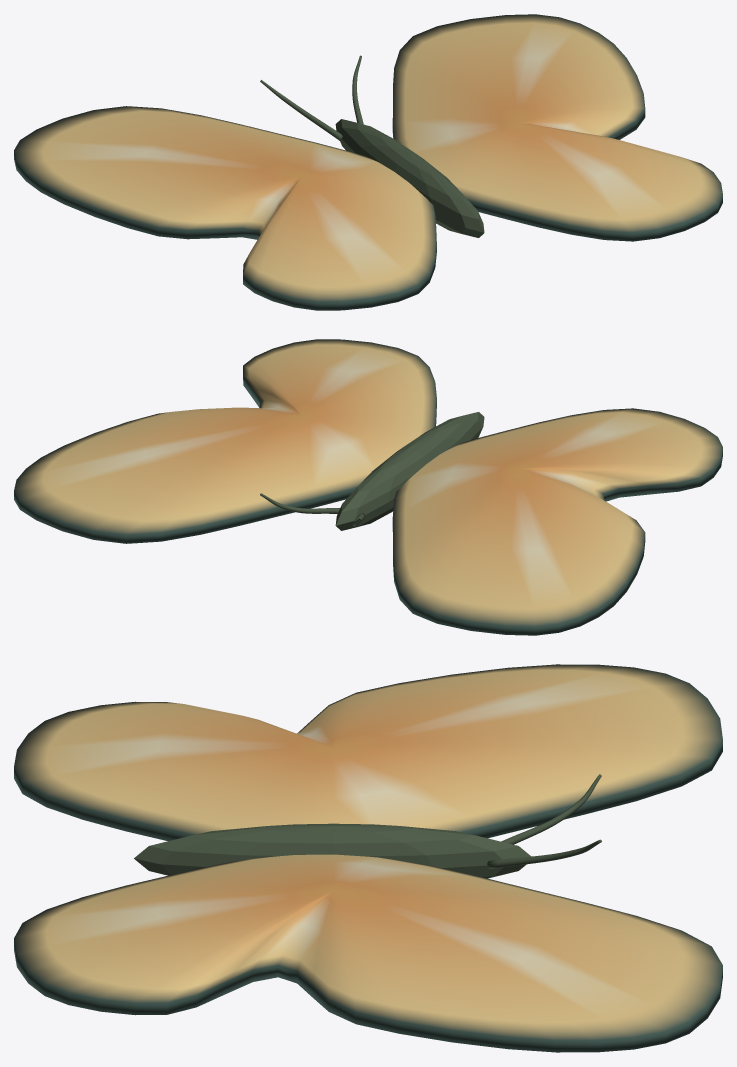
File: garden-butterfly.glb
The picture shows the model from 3 angles, top to bottom: view 1: azimuth 30°, elevation 25°; view 2: azimuth 150°, elevation 25°; view 3: azimuth 270°, elevation 25°; orthographic projection. The views are drawn at different scales.
Visible parts, largest first — view 1: wing-left, wing-right, Butterfly body, Curled antenna; view 2: wing-left, wing-right, Butterfly body; view 3: wing-right, wing-left, Butterfly body, Curled antenna.001, Curled antenna.
Boxes of the visible parts, x1,y1,x2,y2 form: wing-left: [14, 106, 436, 310]; wing-right: [392, 14, 722, 241]; Butterfly body: [335, 119, 484, 237]; Curled antenna: [260, 80, 342, 141]; wing-left: [392, 408, 722, 635]; wing-right: [14, 339, 436, 543]; Butterfly body: [335, 412, 484, 530]; wing-right: [14, 854, 722, 1052]; wing-left: [14, 664, 722, 841]; Butterfly body: [134, 823, 531, 878]; Curled antenna.001: [487, 839, 601, 868]; Curled antenna: [501, 774, 601, 844].
Size of the model in its own units: 0.4 by 0.0418 by 0.3188.
